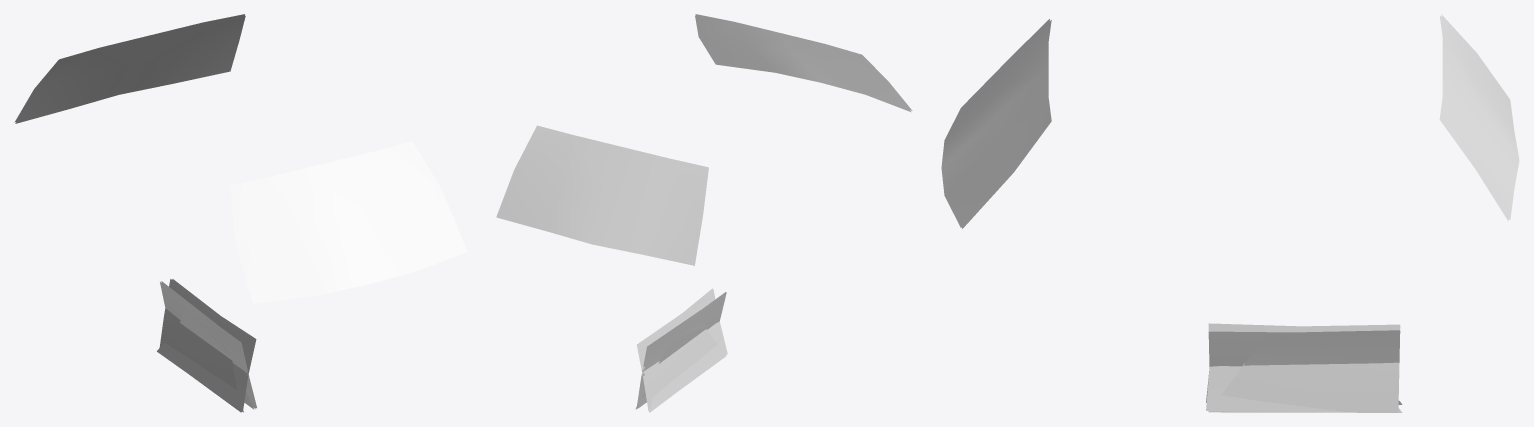
File: Steclo.fbx
3 renders of one model, left to right at view 1: azimuth 30°, elevation 25°; view 2: azimuth 150°, elevation 25°; view 3: azimuth 270°, elevation 25°, orthographic. The views are drawn at different scales.
Parts seen in each view (by area): view 1: steklo_pered, steklo_zad, polySurface16, polySurface7, polySurface11, steklo; view 2: steklo_zad, steklo_pered, polySurface16, polySurface7, polySurface11, steklo; view 3: steklo_pered, steklo_zad, steklo, polySurface16, polySurface11, polySurface7.
Boxes of the visible parts, bbox=[...] form: steklo_pered: bbox=[230, 141, 467, 304]; steklo_zad: bbox=[14, 14, 245, 123]; polySurface16: bbox=[159, 279, 243, 412]; polySurface7: bbox=[157, 300, 256, 411]; polySurface11: bbox=[180, 303, 256, 408]; steklo: bbox=[160, 281, 255, 409]; steklo_zad: bbox=[496, 125, 708, 265]; steklo_pered: bbox=[695, 14, 912, 112]; polySurface16: bbox=[637, 308, 725, 411]; polySurface7: bbox=[649, 288, 727, 412]; polySurface11: bbox=[635, 292, 726, 409]; steklo: bbox=[637, 311, 705, 408]; steklo_pered: bbox=[941, 19, 1051, 228]; steklo_zad: bbox=[1439, 14, 1519, 221]; steklo: bbox=[1208, 324, 1400, 412]; polySurface16: bbox=[1243, 330, 1400, 365]; polySurface11: bbox=[1206, 323, 1402, 412]; polySurface7: bbox=[1206, 331, 1402, 404].
Size of the model in its own units: 95.69 by 128 by 193.
